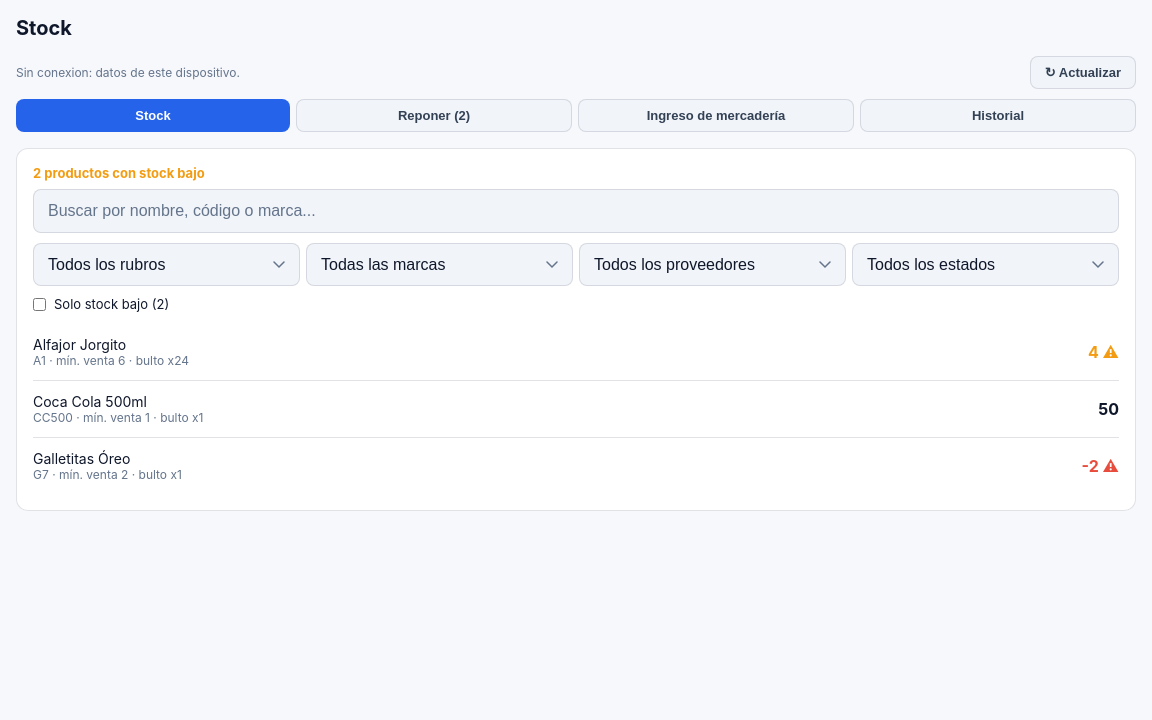
Test: Ingreso de mercadería (REQ-ING) › AC-ING-1 sin proveedores pide cargar uno primero
What coordinates should you click on to do the following:
click the button "Ingreso de mercadería"
I would click on:
 (716, 116)
Its box is [578,99,854,132].
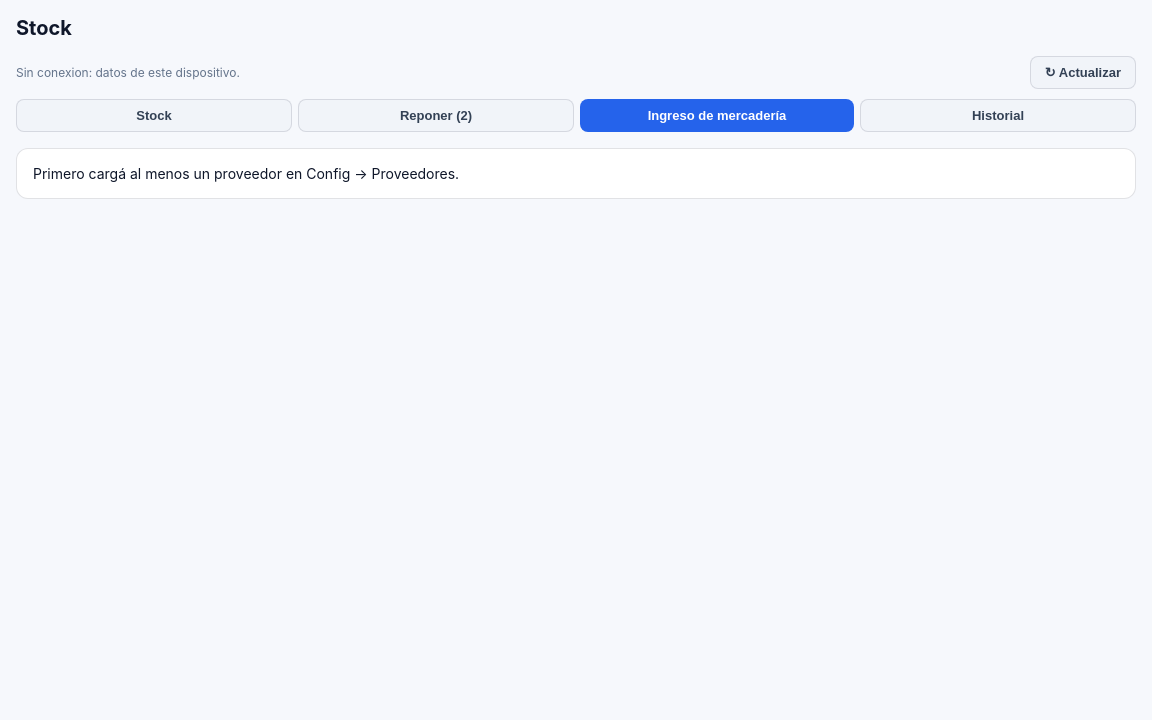
expect the text "Primero cargá al menos un proveedor" is shown: met, box [33,165,459,182]
